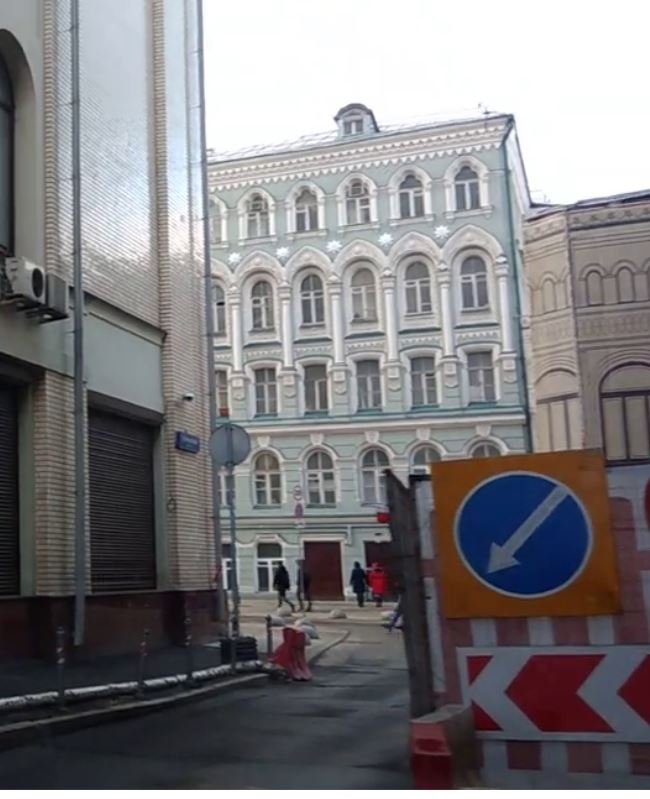Sagdan Git: (450, 470, 592, 602)
